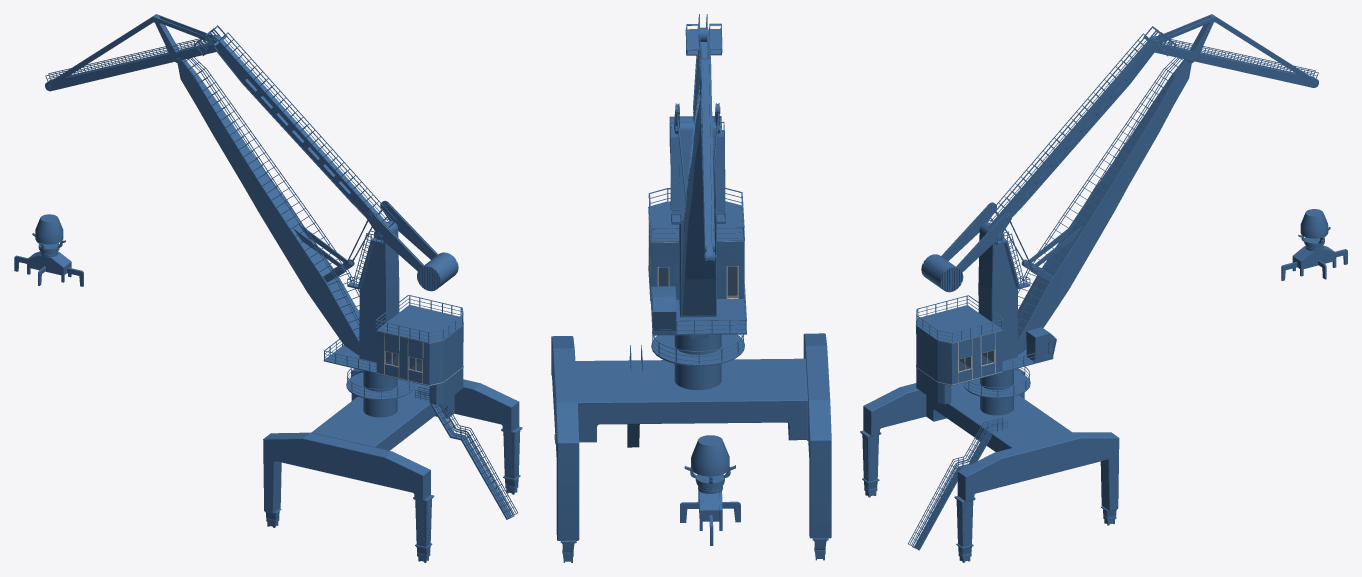
The model's file is qizhongji.fbx.
The picture shows the model from 3 angles, left to right: view 1: azimuth 30°, elevation 25°; view 2: azimuth 150°, elevation 25°; view 3: azimuth 270°, elevation 25°; orthographic projection. The views are drawn at different scales.
Visible parts, largest first — view 1: obj3, obj1, obj2; view 2: obj1, obj3, obj2; view 3: obj3, obj1, obj2.
Boxes of the visible parts, x1,y1,x2,y2 form: obj3: [45, 14, 463, 404]; obj1: [263, 368, 522, 562]; obj2: [14, 214, 83, 286]; obj1: [551, 332, 831, 562]; obj3: [648, 14, 746, 354]; obj2: [680, 435, 740, 545]; obj3: [915, 14, 1318, 404]; obj1: [860, 366, 1119, 562]; obj2: [1281, 209, 1347, 280].
Bounding box in the file's own units: 23.88 × 32.31 × 32.77.
